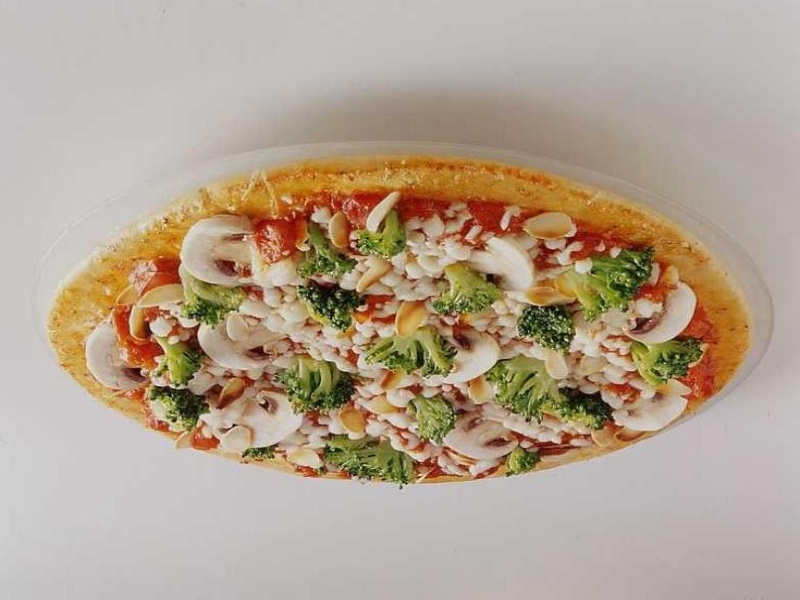champignon: (202, 386, 311, 458), (173, 213, 261, 294), (611, 282, 707, 351), (456, 232, 542, 307), (435, 411, 524, 470)
